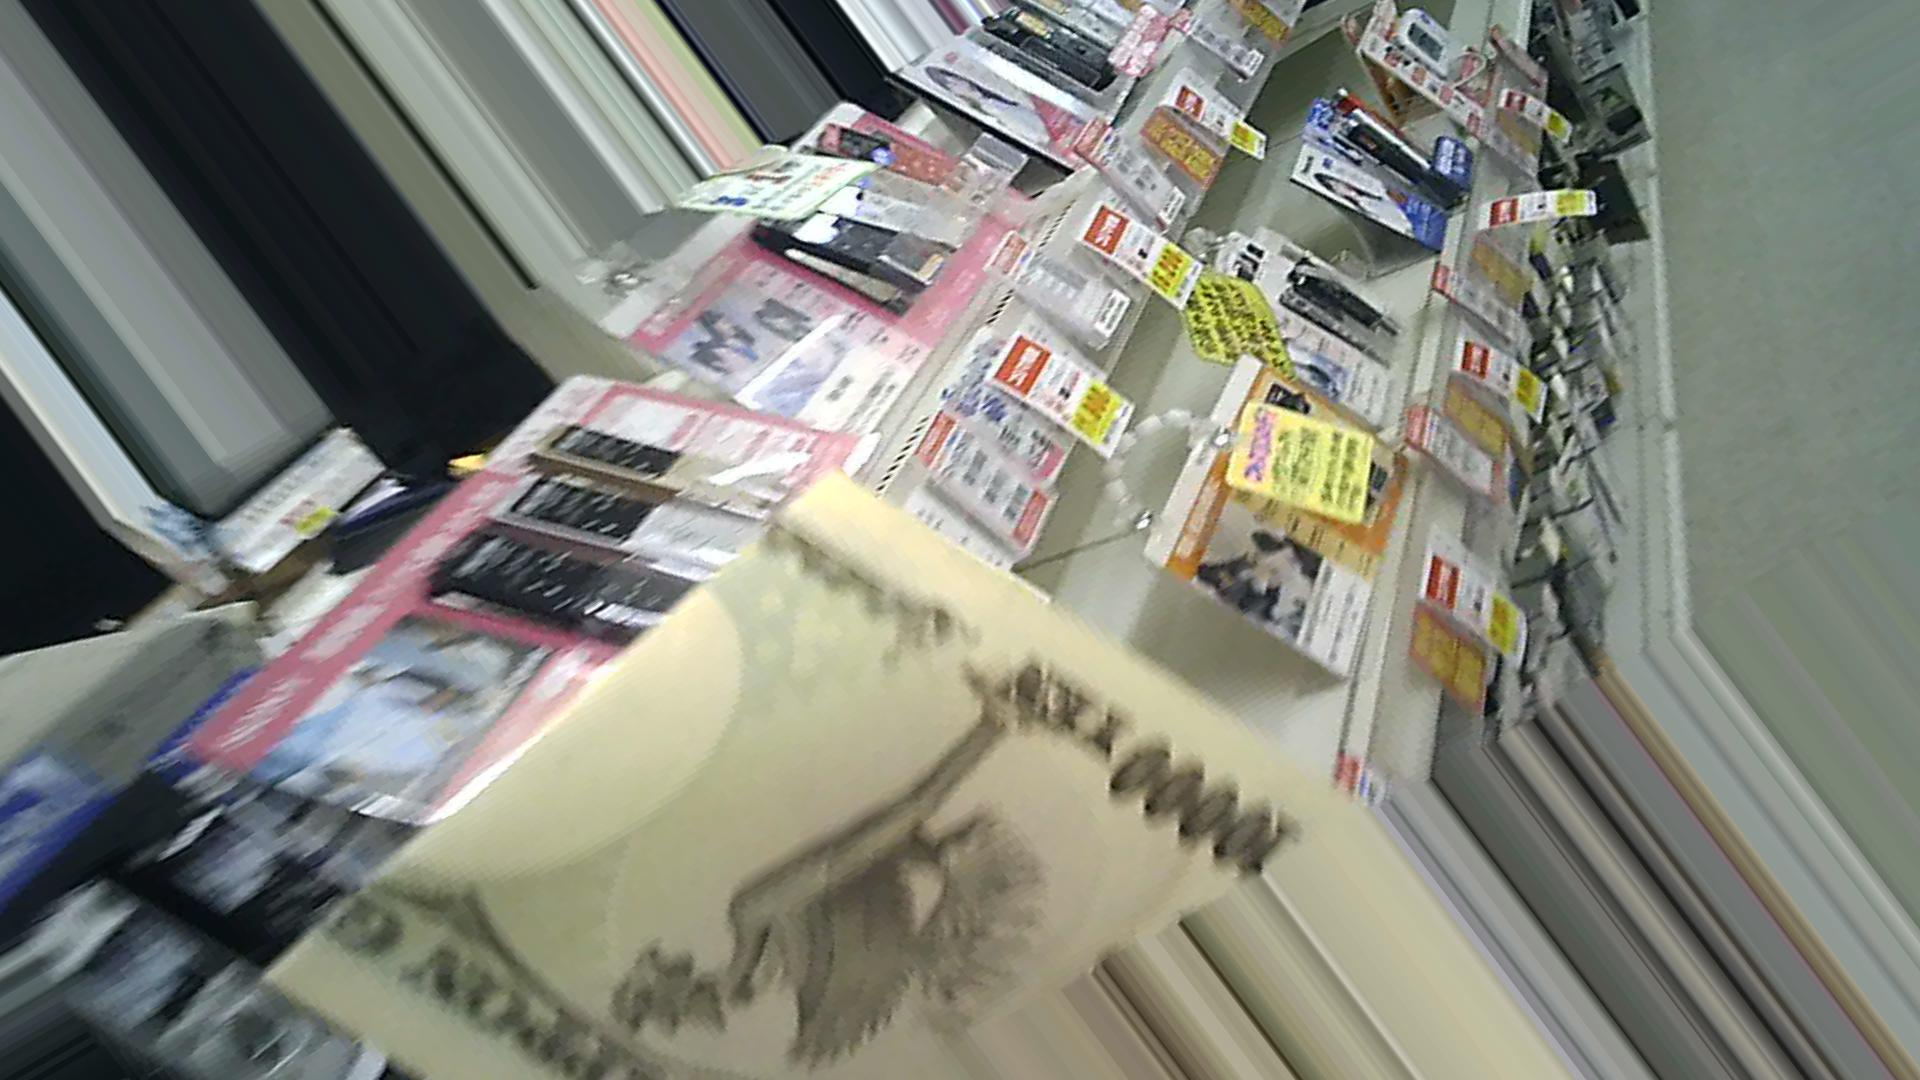10,000 Yen: (260, 489, 1346, 1062)
